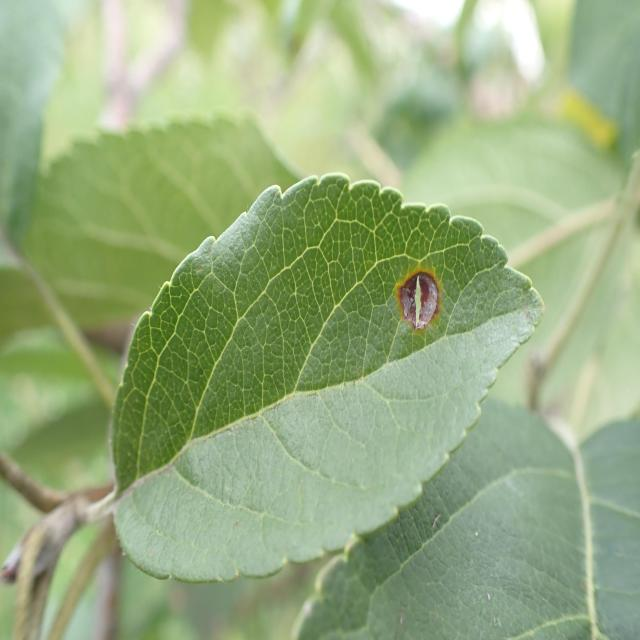Black Rot: (378, 254, 464, 351)
